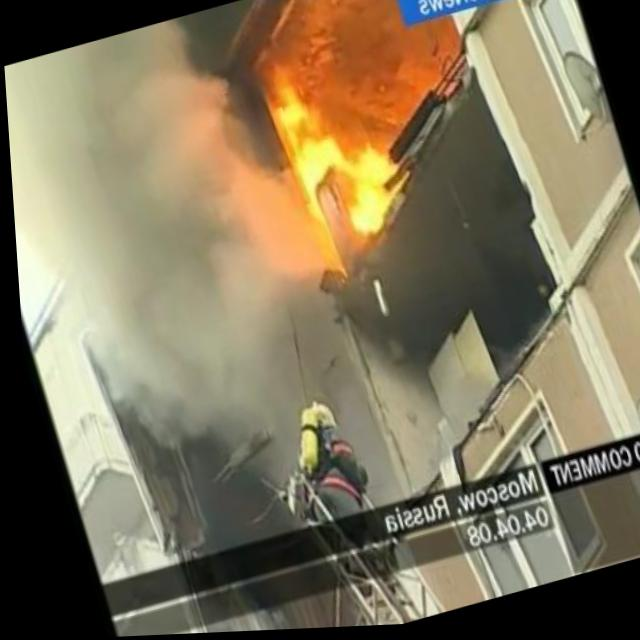fire: (251, 45, 414, 253)
